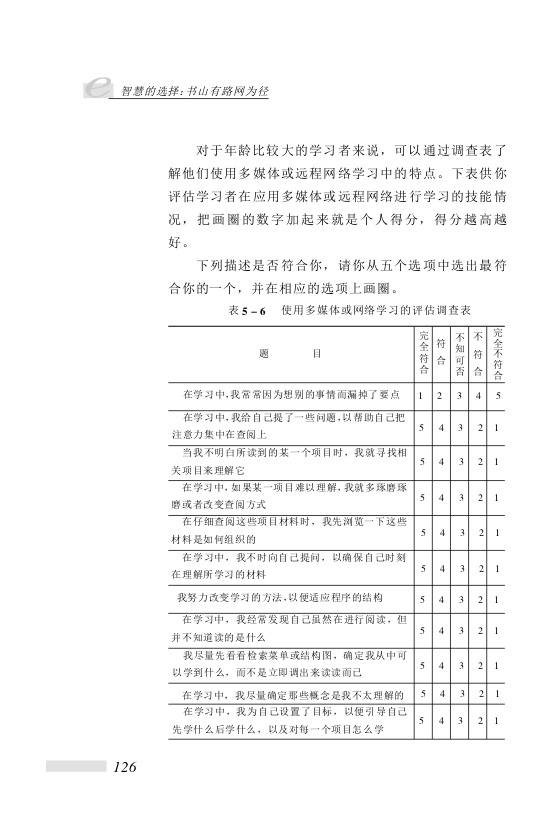table: (168, 324, 505, 739)
